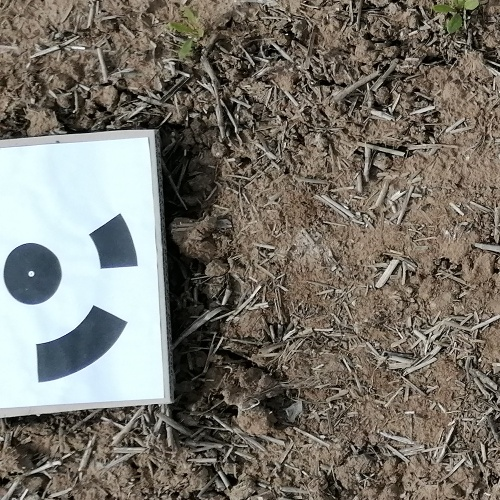beet: (170, 8, 203, 60), (434, 0, 479, 28)
